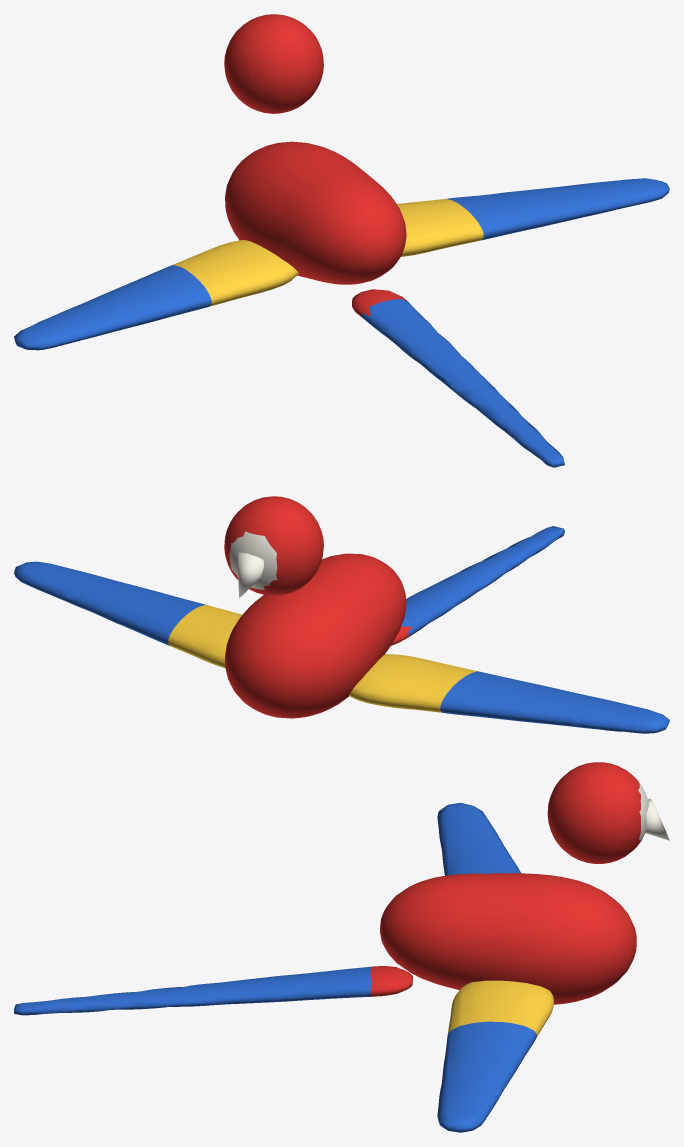
Rendered from animal_parrot.glb.
The picture shows the model from 3 angles, top to bottom: view 1: azimuth 30°, elevation 25°; view 2: azimuth 150°, elevation 25°; view 3: azimuth 270°, elevation 25°; orthographic projection. The views are drawn at different scales.
Visible parts, largest first — view 1: Body, WingL, WingR, Head; view 2: Body, WingL, WingR, Head; view 3: Body, WingR, Head, WingL.
Part boxes in pixels (box(x1,y1,x2,y2)): Body: box(225, 141, 564, 467); WingL: box(14, 240, 299, 350); WingR: box(397, 178, 669, 256); Head: box(224, 14, 323, 113); Body: box(225, 526, 564, 718); WingL: box(349, 654, 669, 733); WingR: box(14, 561, 242, 668); Head: box(224, 496, 323, 597); Body: box(14, 873, 636, 1015); WingR: box(437, 980, 553, 1132); Head: box(547, 762, 669, 863); WingL: box(437, 802, 520, 875).
Size of the model in its own units: 1.2 by 0.4206 by 1.02.
